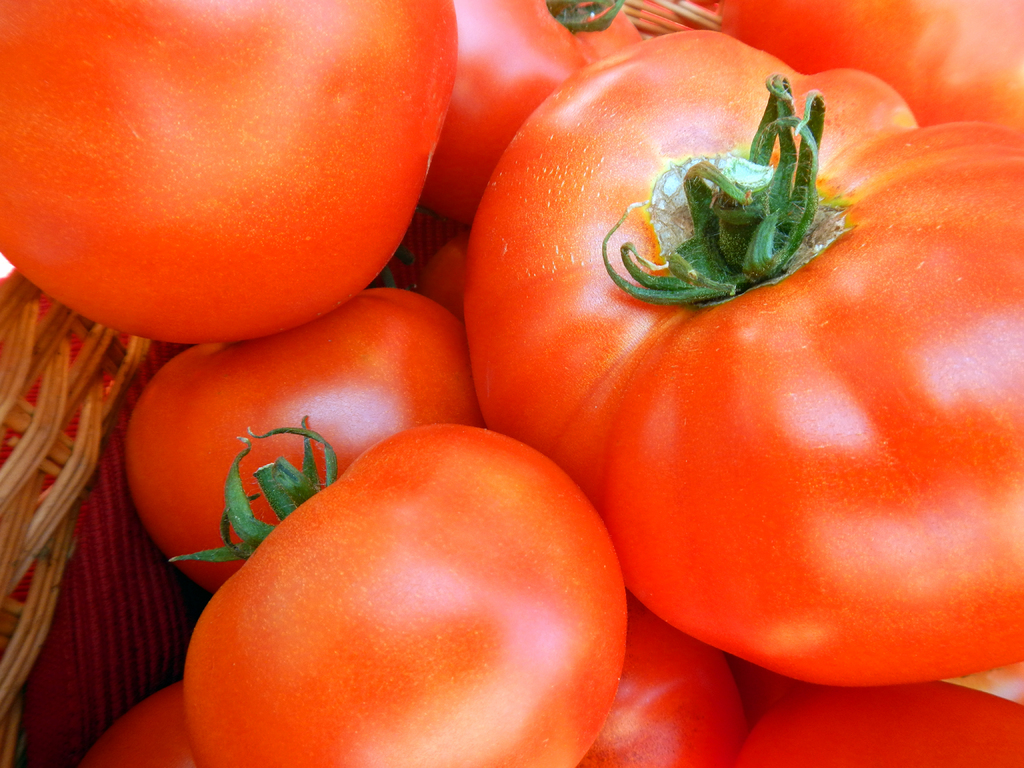Tomato: (462, 18, 1023, 690), (181, 415, 622, 767), (0, 0, 449, 338), (122, 288, 441, 590), (730, 678, 1023, 767), (593, 605, 752, 767)
